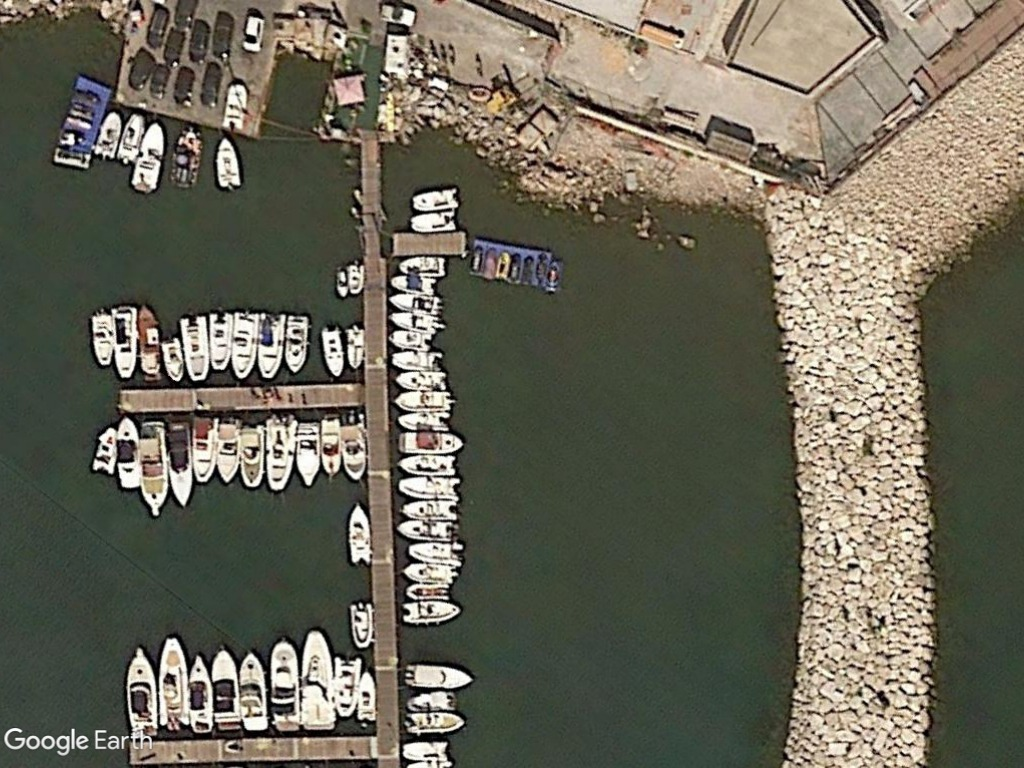boat: (295, 624, 337, 733), (154, 632, 189, 735), (122, 643, 159, 739), (265, 634, 299, 734), (259, 410, 299, 493), (136, 419, 169, 517), (163, 415, 195, 511), (129, 116, 167, 195), (236, 647, 270, 735), (105, 299, 139, 384), (210, 645, 242, 733), (228, 303, 260, 387), (133, 303, 165, 384), (178, 312, 213, 384), (184, 652, 214, 735), (186, 410, 218, 485), (113, 413, 142, 493), (256, 306, 286, 383), (236, 420, 268, 492), (212, 415, 243, 488), (293, 415, 323, 489), (400, 659, 473, 689), (204, 306, 235, 376), (330, 650, 360, 722), (395, 471, 464, 501), (113, 108, 149, 164), (212, 133, 246, 192), (336, 418, 368, 480), (400, 708, 466, 738), (346, 498, 374, 567), (398, 597, 460, 626), (87, 307, 115, 370), (92, 108, 124, 163), (393, 517, 460, 543), (317, 413, 343, 478), (283, 309, 308, 376), (397, 429, 464, 454), (156, 333, 188, 385), (318, 324, 346, 381), (392, 454, 458, 478), (391, 388, 456, 412), (386, 307, 441, 335), (409, 182, 461, 211), (406, 539, 468, 563), (347, 598, 375, 651), (222, 77, 248, 133), (400, 560, 460, 584), (402, 209, 461, 233), (354, 666, 378, 724), (393, 368, 453, 391), (396, 497, 461, 518), (385, 348, 446, 370), (341, 321, 367, 372), (387, 272, 440, 297), (395, 410, 452, 431), (395, 255, 447, 278), (398, 739, 450, 761), (402, 581, 454, 602)
van: (241, 9, 267, 54)
